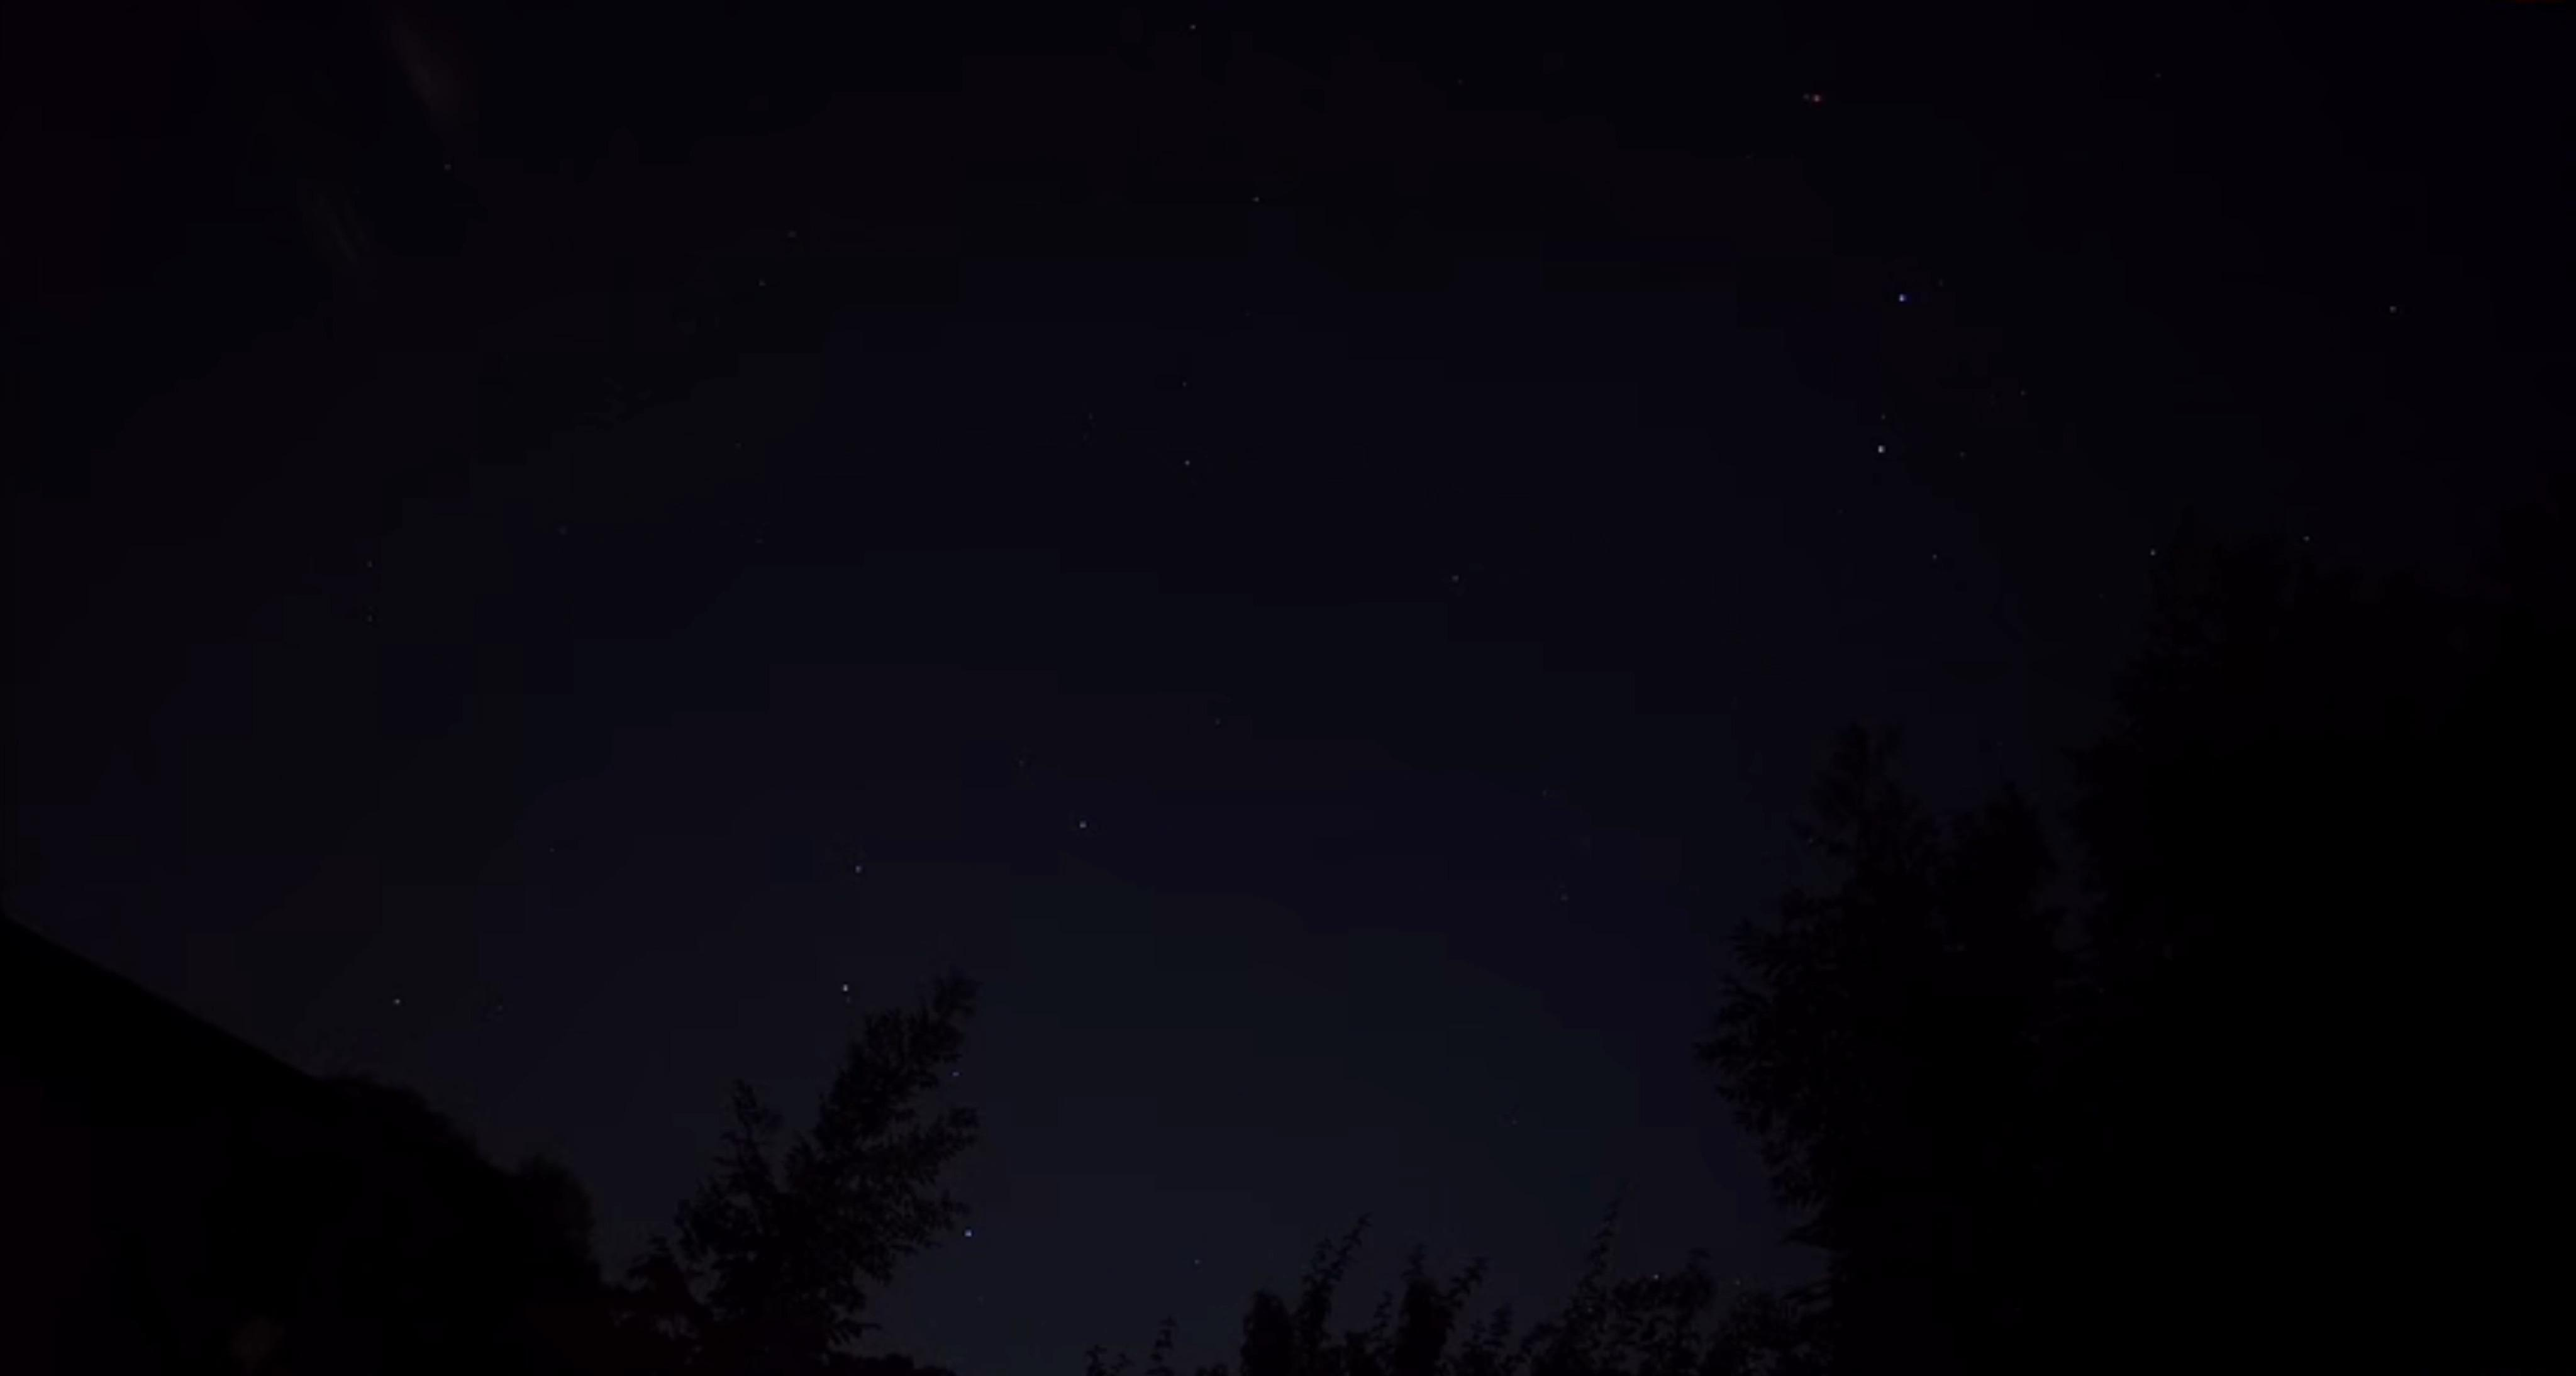Plane: (1758, 82, 1872, 118)
